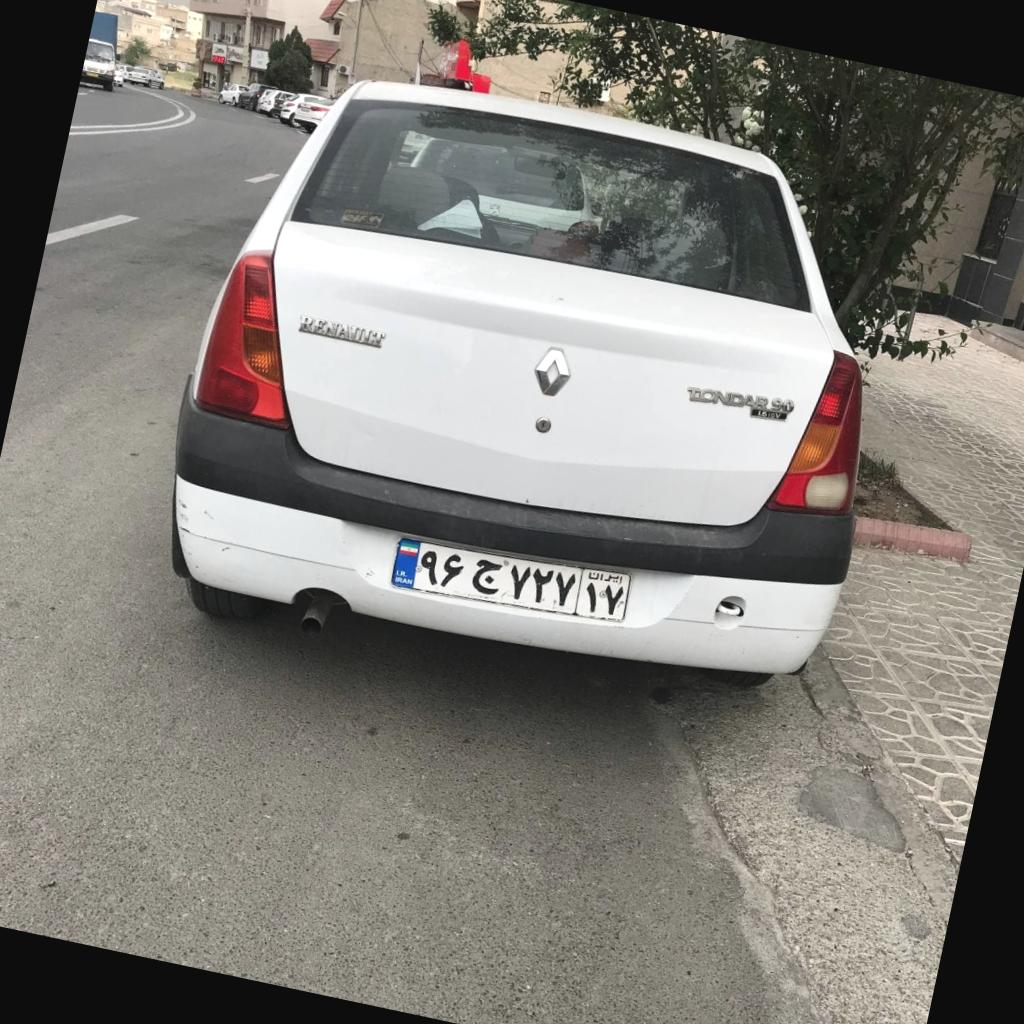Plates: (392, 537, 631, 621)
